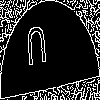U: (25, 25, 49, 76)
